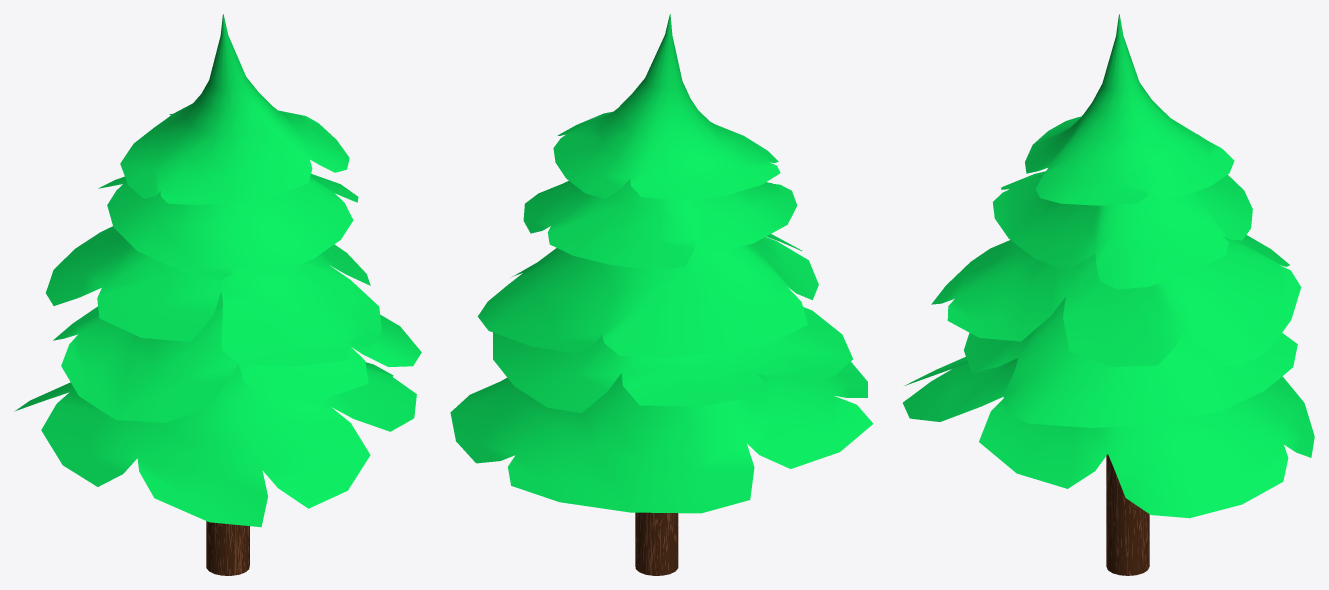
Rendered from tree.obj.
3 views of the same model, side by side, from view 1: azimuth 30°, elevation 25°; view 2: azimuth 150°, elevation 25°; view 3: azimuth 270°, elevation 25° (orthographic).
Parts seen in each view (by area): view 1: Mesh.1, Mesh; view 2: Mesh.1, Mesh; view 3: Mesh.1, Mesh.
Part boxes in pixels (bbox=[...]): Mesh.1: bbox=[14, 14, 421, 527]; Mesh: bbox=[206, 521, 249, 575]; Mesh.1: bbox=[450, 14, 873, 513]; Mesh: bbox=[635, 512, 678, 575]; Mesh.1: bbox=[903, 14, 1314, 518]; Mesh: bbox=[1106, 454, 1149, 575].
Size of the model in its own units: 1126 by 1702 by 1160.
Materials: 2 (1 with a texture image).
